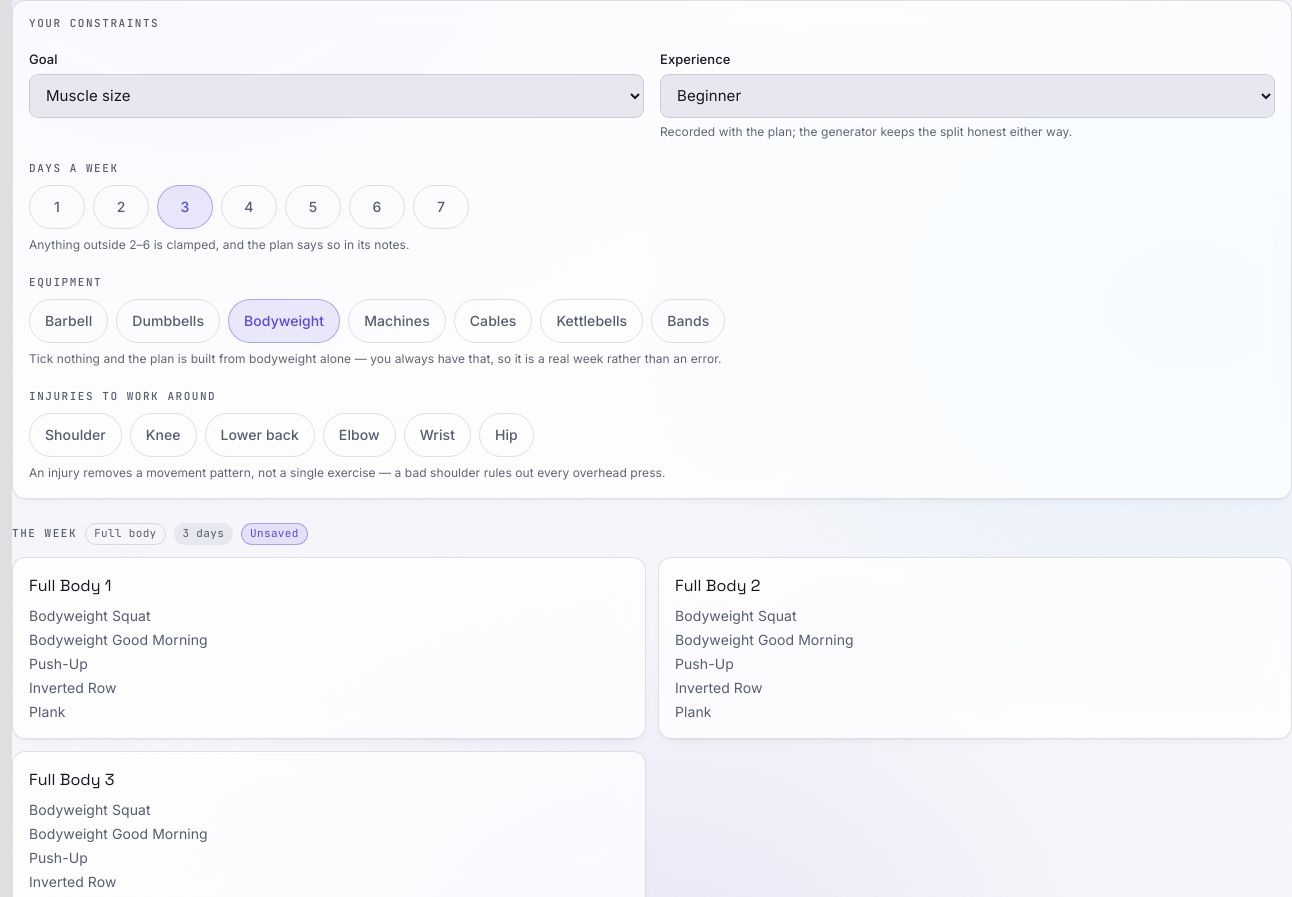
Test: PlanEditor › surfaces the generator’s notes rather than shipping a silently short plan
Click the button with test id "train-days-1" at (57,208), box [29,186,85,230]
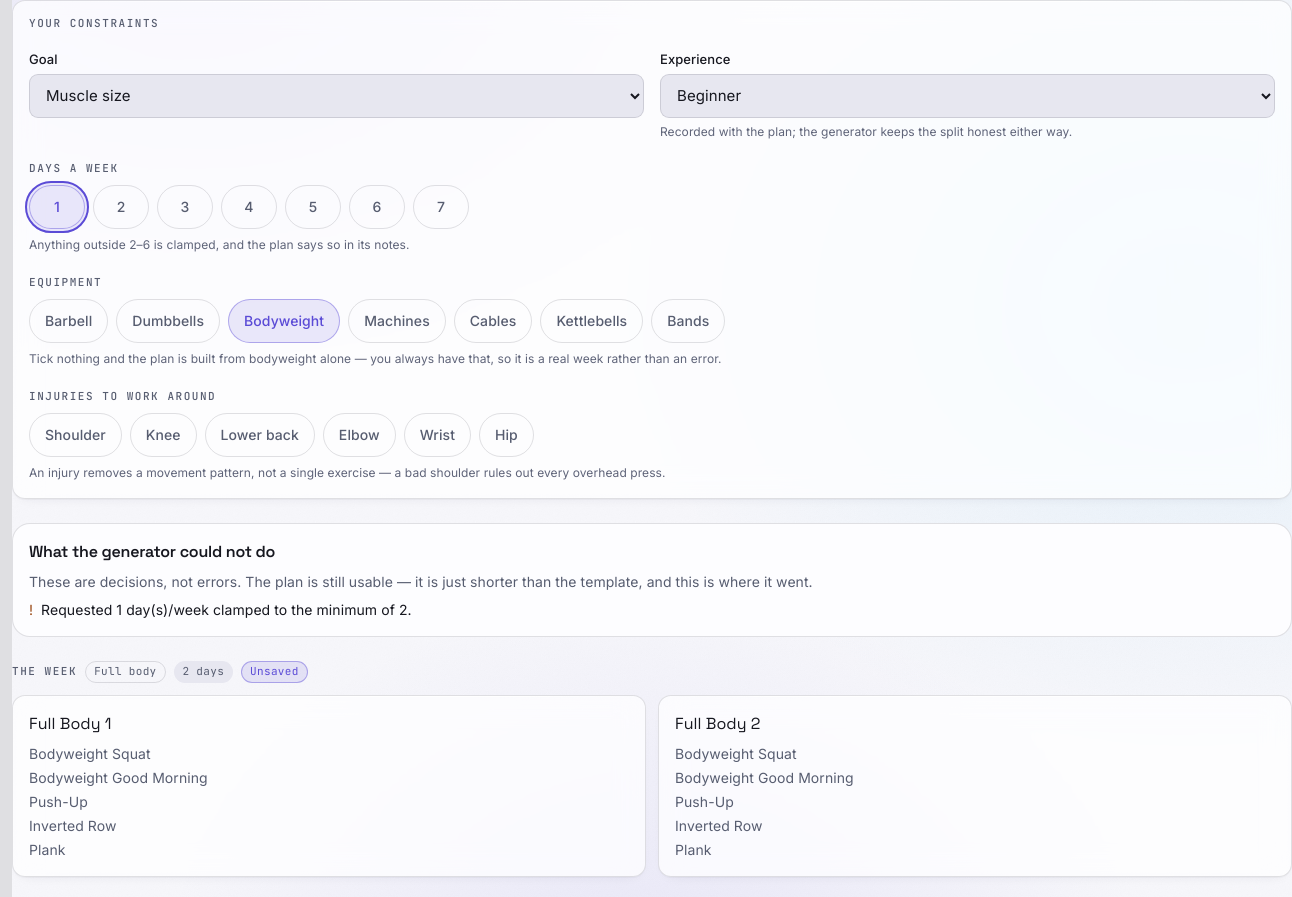
Expected: the element with test id "train-plan-notes" shows "clamped to the minimum of 2", [41,601,412,618]
